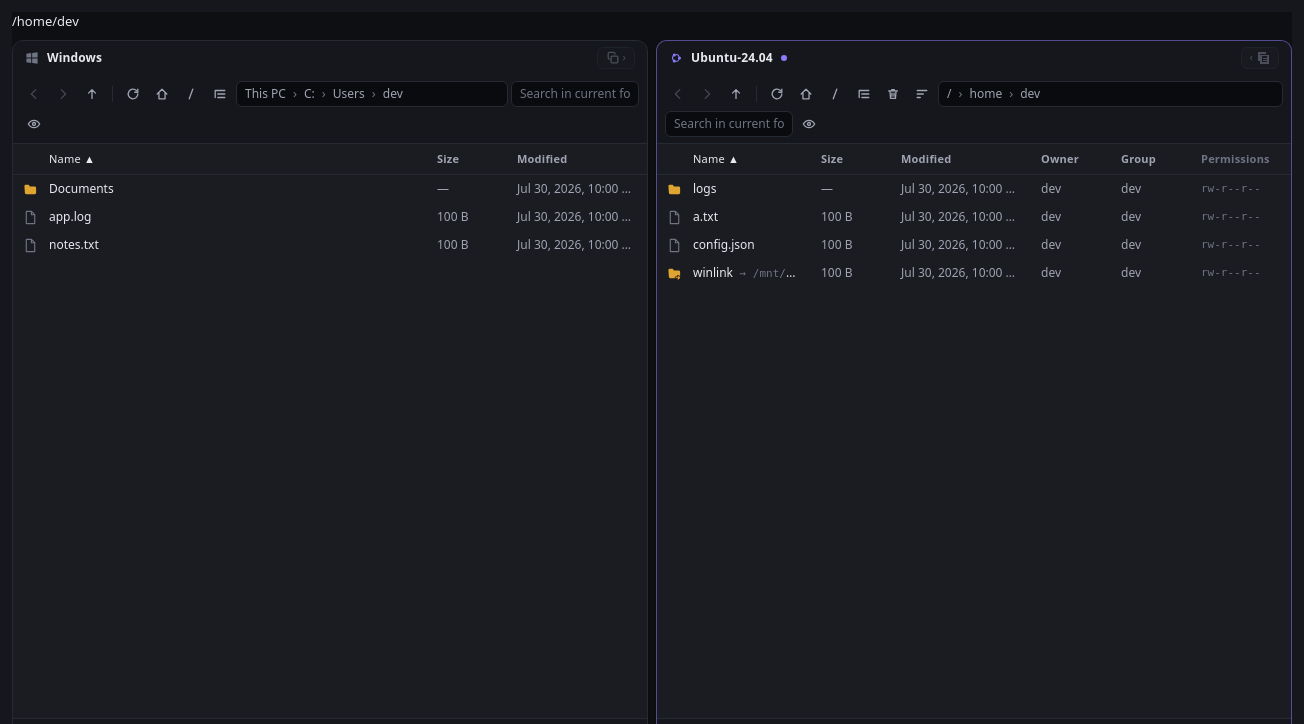
Scenario: windows pane navigation › starts at the user profile, lists drives at This PC and opens a drive
The width and height of the screenshot is (1304, 724).
Expected: the text "notes.txt" is shown, [49,236,99,253]
Expected: the text "config.json" is shown, [693,236,755,253]
Click the button named "Root" below "Windows": [191, 94] box [178,80,204,106]
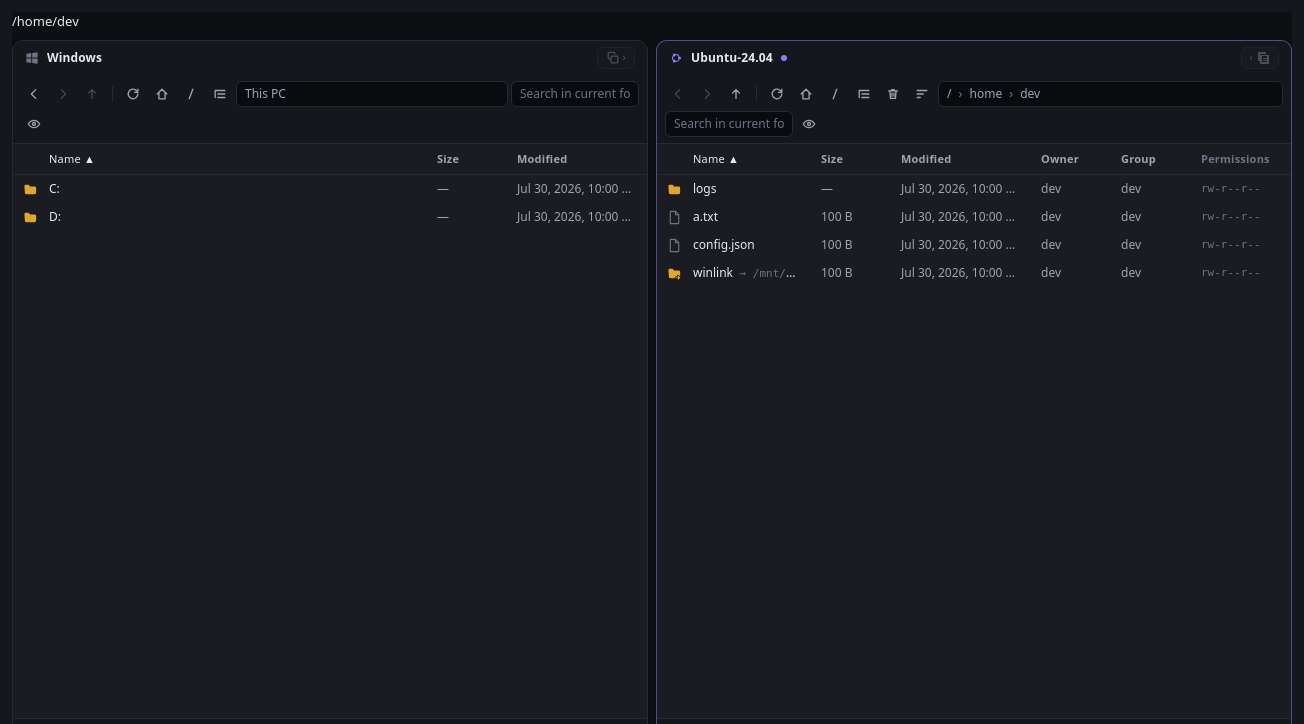
Expected: the text "D:" is shown, [49,208,61,225]
Double-click the text "C:": [54, 188] box [49,180,60,197]
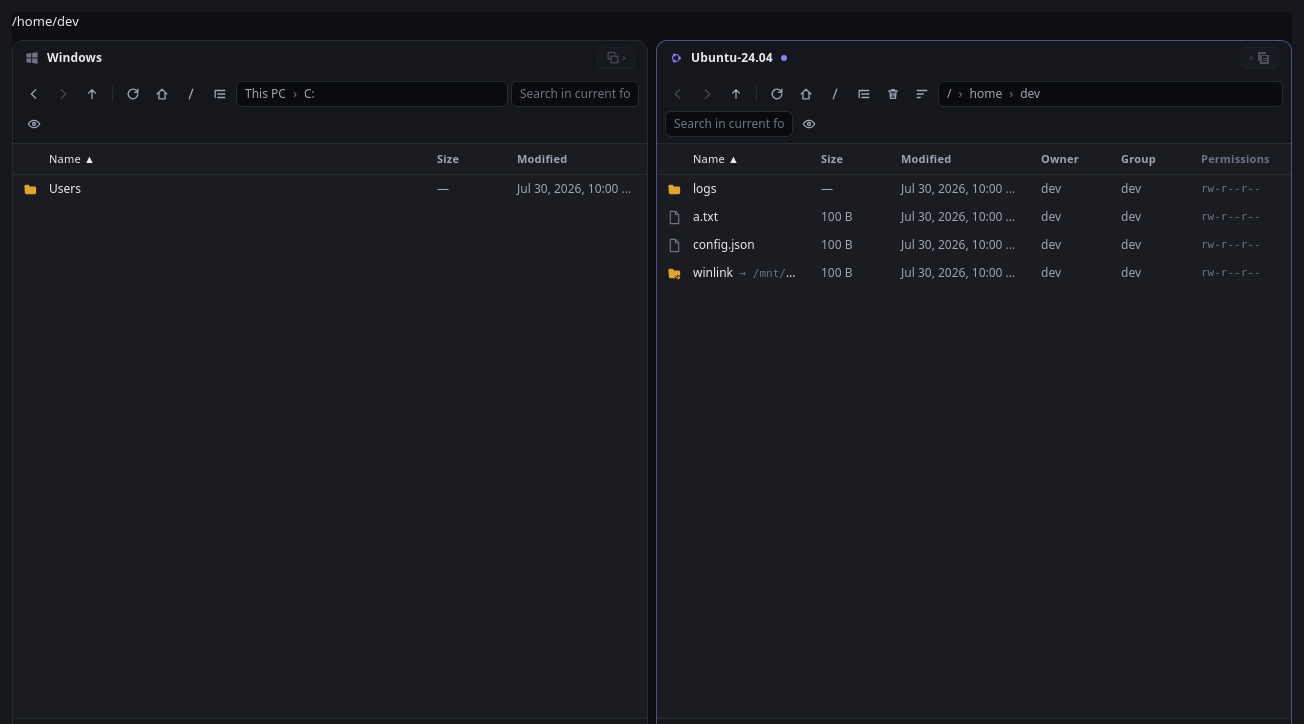
Expected: the text "Users" is shown, [49,180,81,197]
